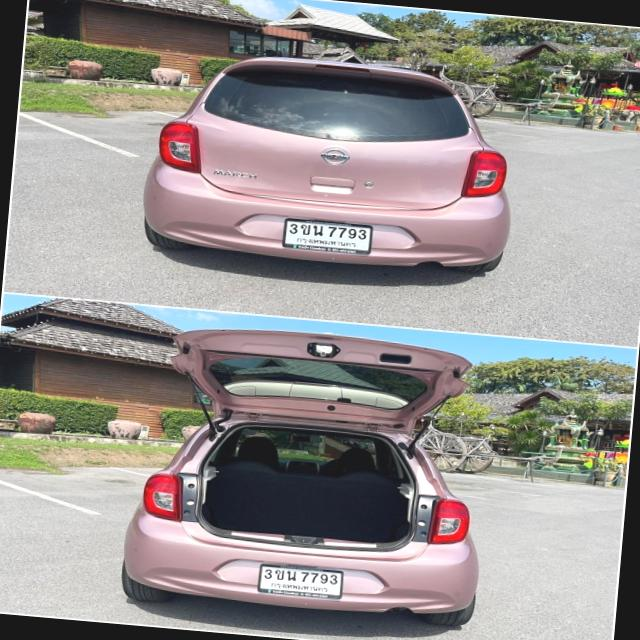license_plate: (280, 208, 378, 258), (253, 558, 346, 600)
